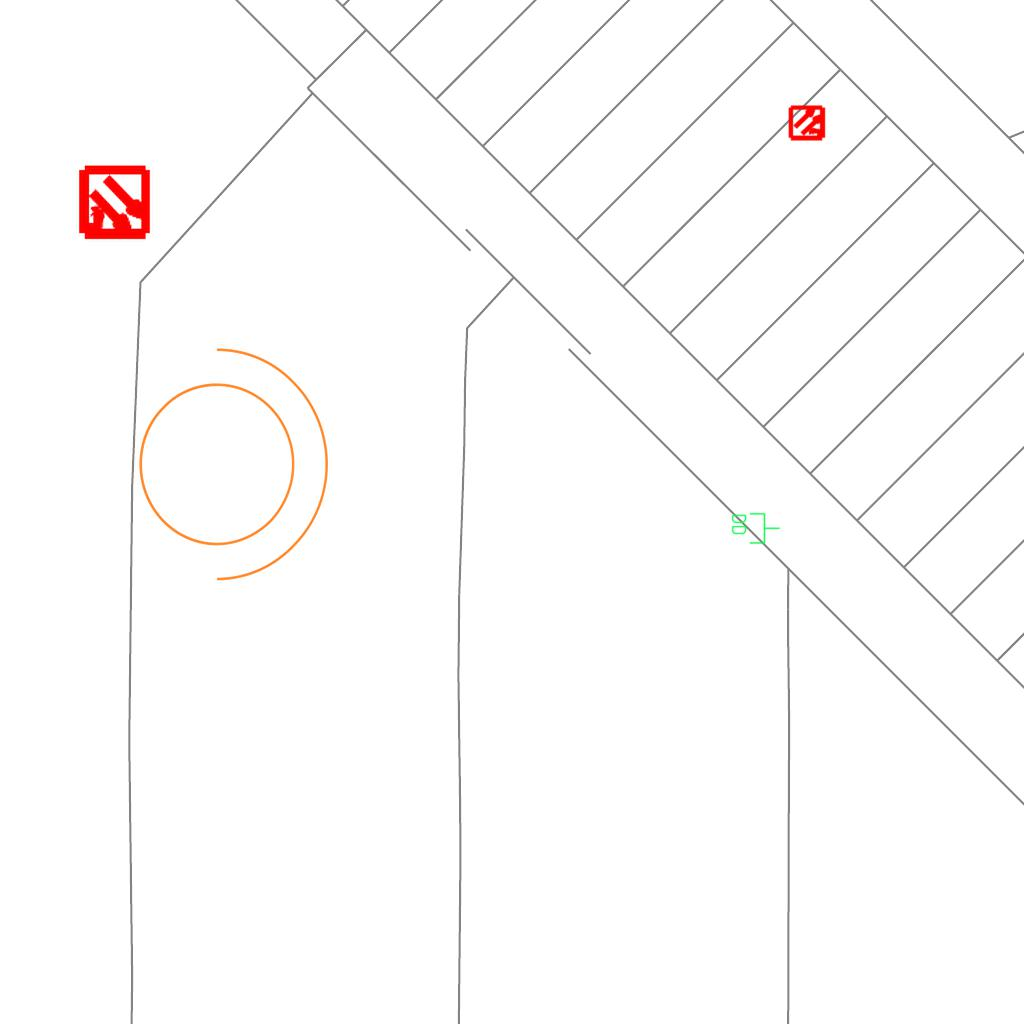Datenanschluss_zweifach: (730, 511, 781, 545)
OT_Multisensormelder_(Kombination_RMO_WMD): (58, 148, 171, 261), (780, 95, 836, 151)
Scheinwerfer_fuer_Alarmbeleuchtung: (114, 326, 339, 590)
